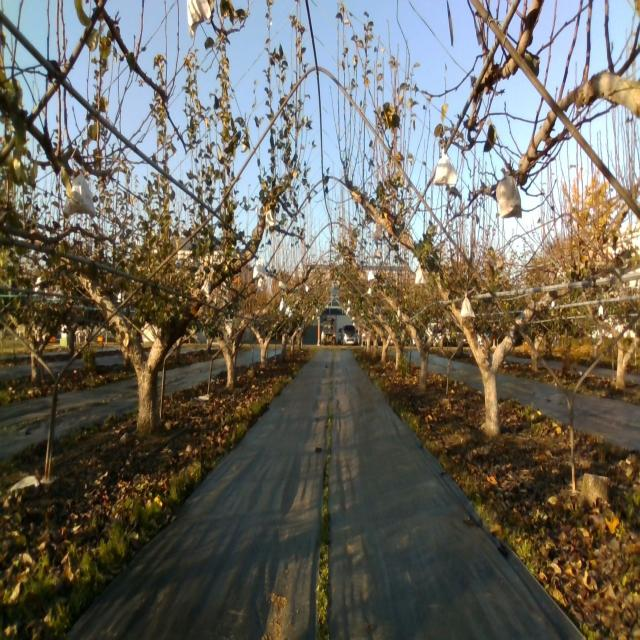pearbags: (64, 166, 98, 220), (496, 170, 522, 219), (434, 147, 458, 186), (253, 253, 268, 280), (460, 292, 475, 318), (264, 206, 275, 231), (200, 277, 211, 300), (372, 221, 384, 241), (415, 263, 426, 284)
